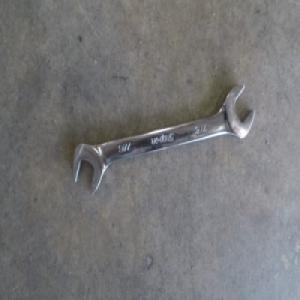Wrench: (72, 82, 257, 197)
